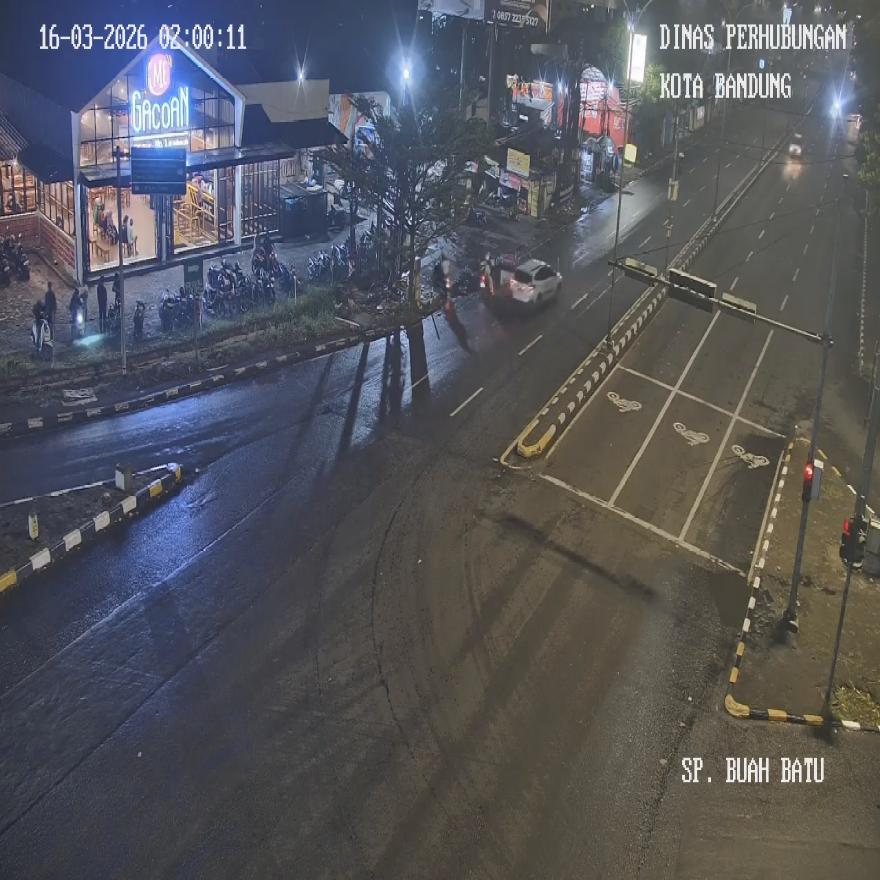Truk: (2, 233, 30, 282), (32, 312, 53, 360), (160, 286, 182, 331), (69, 285, 86, 341), (96, 280, 108, 332), (132, 299, 144, 340)
